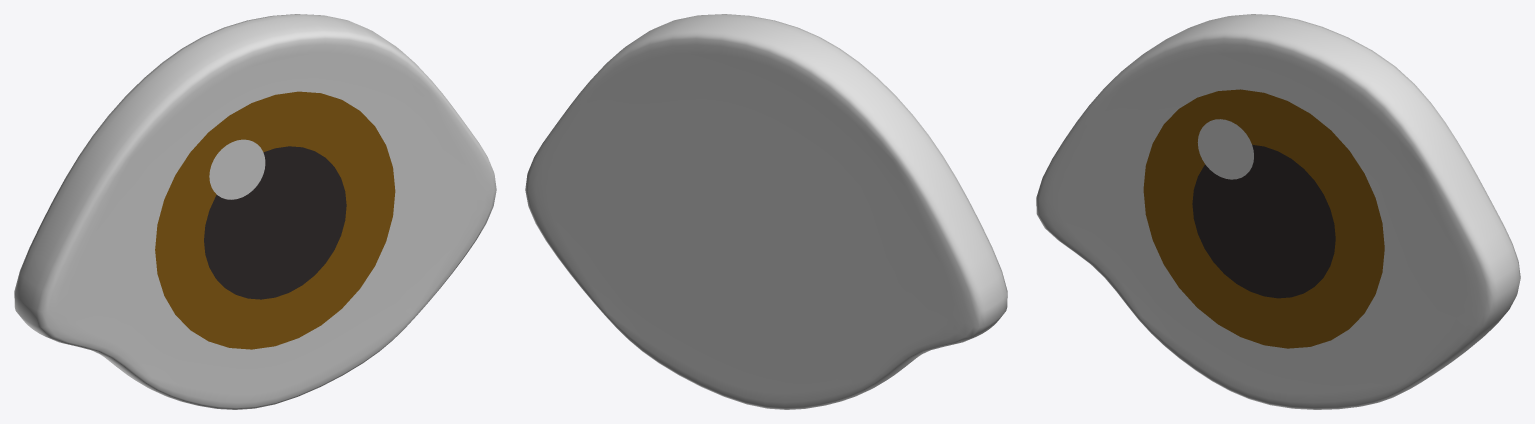
The model's file is eye-emoji.fbx.
The picture shows the model from 3 angles, left to right: view 1: azimuth 30°, elevation 25°; view 2: azimuth 150°, elevation 25°; view 3: azimuth 330°, elevation 25°; orthographic projection.
Visible parts, largest first — view 1: eye, iris, pupil, pupil-shine; view 2: eye; view 3: eye, iris, pupil, pupil-shine.
Part boxes in pixels (left/top/right/bottom): eye: left=14, top=14, right=496, bottom=409; iris: left=155, top=91, right=395, bottom=349; pupil: left=204, top=146, right=346, bottom=299; pupil-shine: left=209, top=139, right=265, bottom=199; eye: left=525, top=14, right=1007, bottom=409; eye: left=1036, top=14, right=1520, bottom=409; iris: left=1143, top=89, right=1384, bottom=348; pupil: left=1192, top=144, right=1335, bottom=298; pupil-shine: left=1197, top=119, right=1253, bottom=179.
Size of the model in its own units: 472 by 361 by 58.31.
